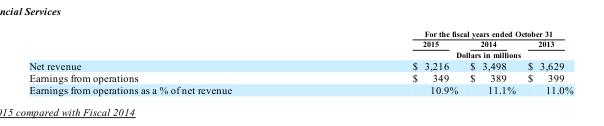table: (28, 28, 572, 95)
table column: (28, 28, 321, 95), (321, 28, 463, 95), (463, 28, 520, 95), (520, 28, 572, 95)
table column header: (28, 28, 572, 59)
table row: (28, 59, 572, 71), (28, 71, 572, 83), (28, 83, 572, 95), (28, 48, 572, 59), (28, 28, 572, 38), (28, 38, 572, 48)
table spanning cell: (321, 48, 572, 59), (321, 28, 572, 38)
